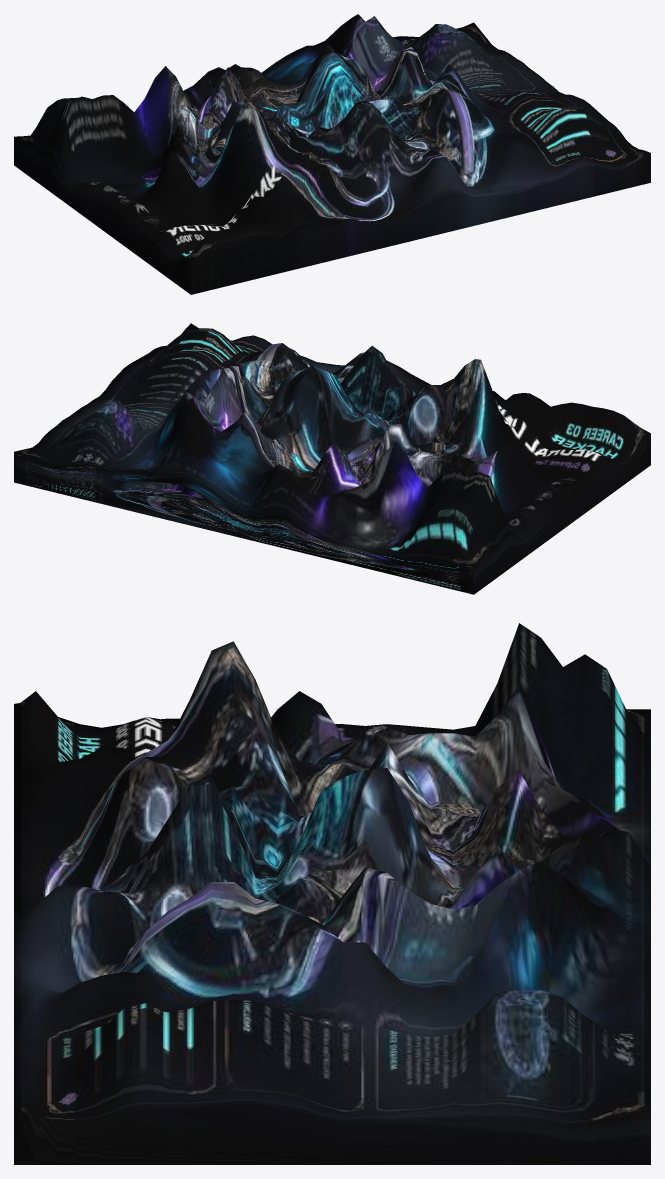
Rendered from CAREER_03_Tool_07_Neural_Link.glb.
3 renders of one model, top to bottom at view 1: azimuth 30°, elevation 25°; view 2: azimuth 150°, elevation 25°; view 3: azimuth 270°, elevation 25°, orthographic. The views are drawn at different scales.
Parts seen in each view (by area): view 1: CAREER_03_Tool_07_Neural_Link; view 2: CAREER_03_Tool_07_Neural_Link; view 3: CAREER_03_Tool_07_Neural_Link.
Part boxes in pixels (x1,y1,x2,y2): CAREER_03_Tool_07_Neural_Link: (14, 14, 650, 294); CAREER_03_Tool_07_Neural_Link: (14, 323, 650, 594); CAREER_03_Tool_07_Neural_Link: (14, 623, 650, 1164).
Bounding box in the file's own units: 2 × 0.51 × 1.33.
1 material, 1 textured.
